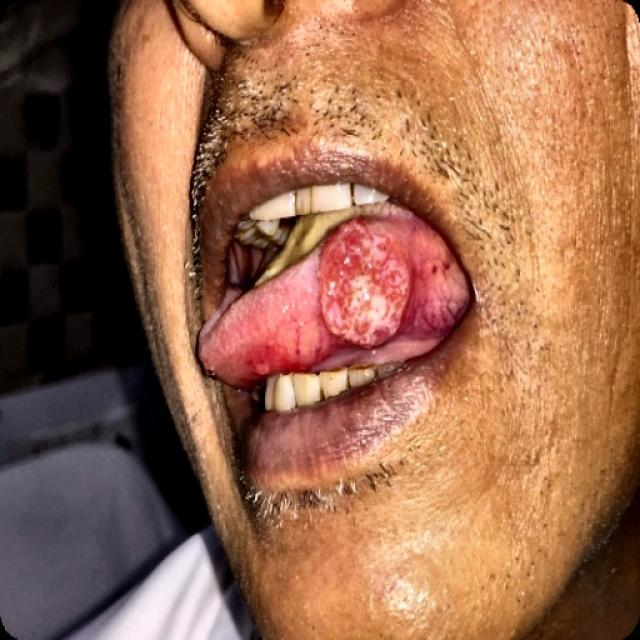cancer-detection: (309, 209, 421, 364)
processing_area: (188, 197, 474, 384)
